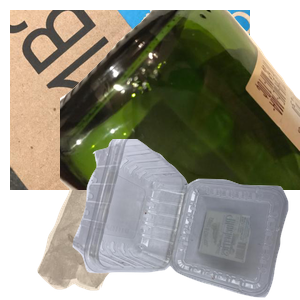cardboard: (10, 10, 250, 190)
glass: (60, 10, 300, 190)
plastic: (70, 139, 300, 300)
trash: (35, 140, 203, 300)
